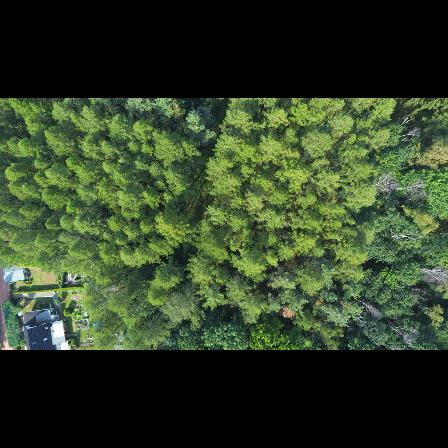Dead: (388, 319, 424, 348), (382, 227, 417, 248), (416, 262, 448, 284), (354, 295, 382, 318), (402, 178, 429, 200), (372, 171, 397, 192), (397, 127, 423, 140)
